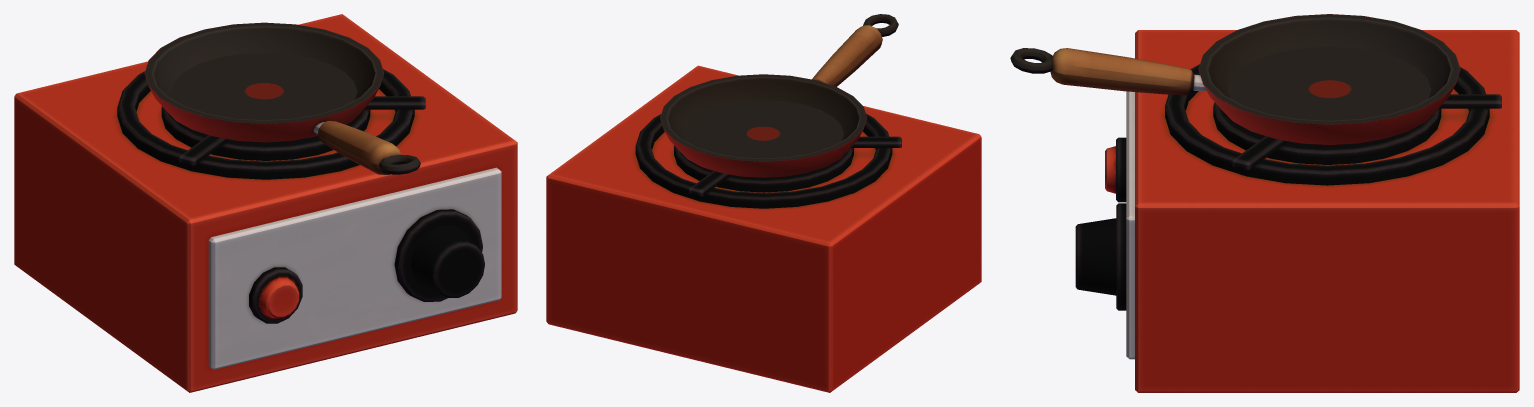
File: FryStation.obj
The picture shows the model from 3 angles, left to right: view 1: azimuth 30°, elevation 25°; view 2: azimuth 150°, elevation 25°; view 3: azimuth 270°, elevation 25°; orthographic projection. The views are drawn at different scales.
Parts seen in each view (by area): view 1: Stove.003, Fry_Pan; view 2: Stove.003, Fry_Pan; view 3: Stove.003, Fry_Pan.
Boxes of the visible parts, left/top/right/bottom form: Stove.003: left=14, top=14, right=517, bottom=392; Fry_Pan: left=144, top=22, right=420, bottom=174; Stove.003: left=546, top=65, right=981, bottom=392; Fry_Pan: left=660, top=14, right=898, bottom=177; Stove.003: left=1075, top=30, right=1519, bottom=392; Fry_Pan: left=1010, top=14, right=1460, bottom=145.
Bounding box in the file's own units: 2 × 1.35 × 2.44.
Materials: 2 (2 with a texture image).
